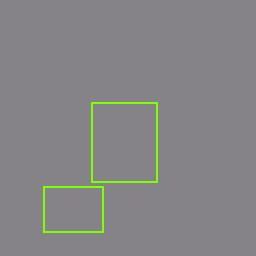Safety Vest: (90, 102, 158, 182), (43, 186, 103, 232)
